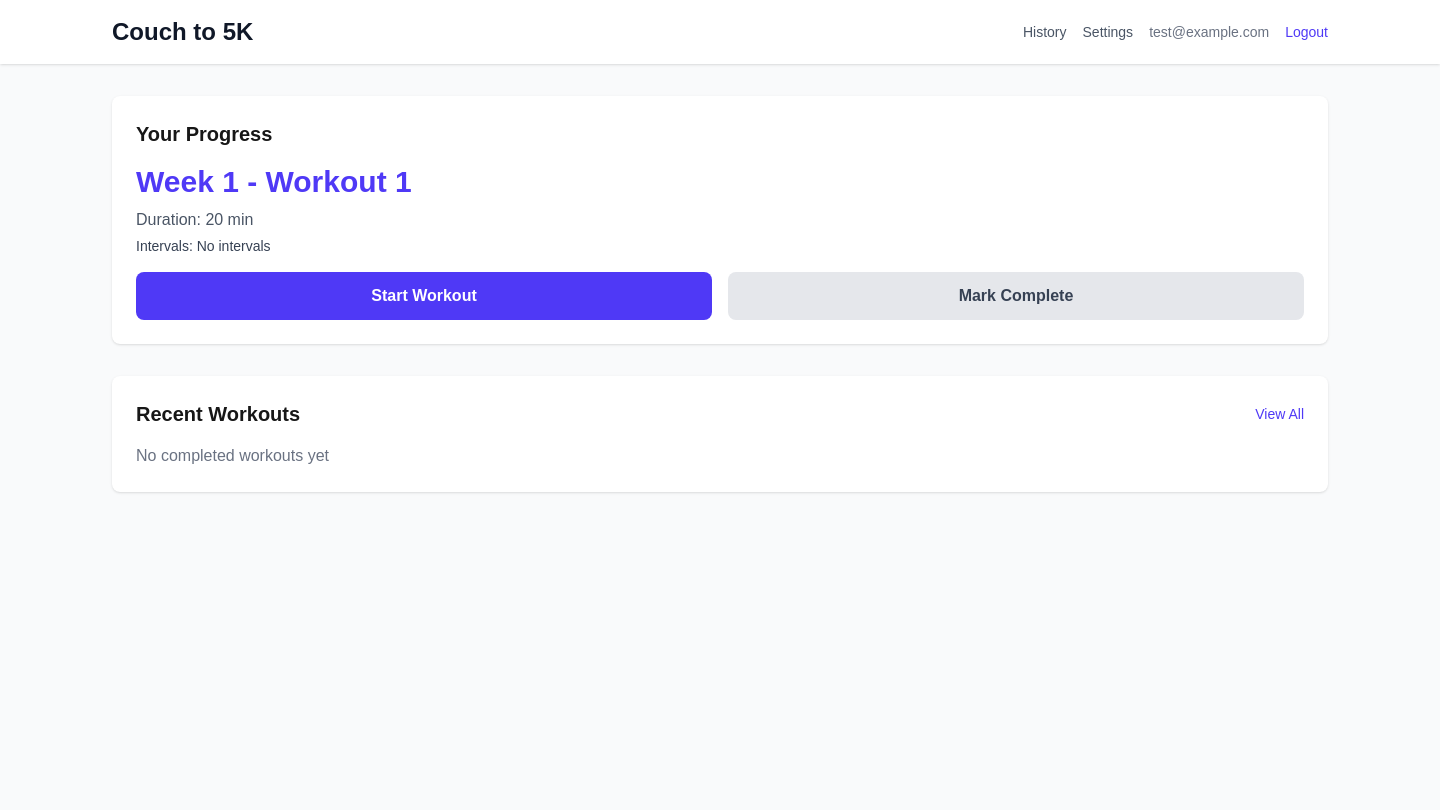
Test case: DashboardPage › should display error in dialog when markComplete fails
Note: Open dialog
Click the button "Mark Complete": (1016, 296) [728, 272, 1304, 320]
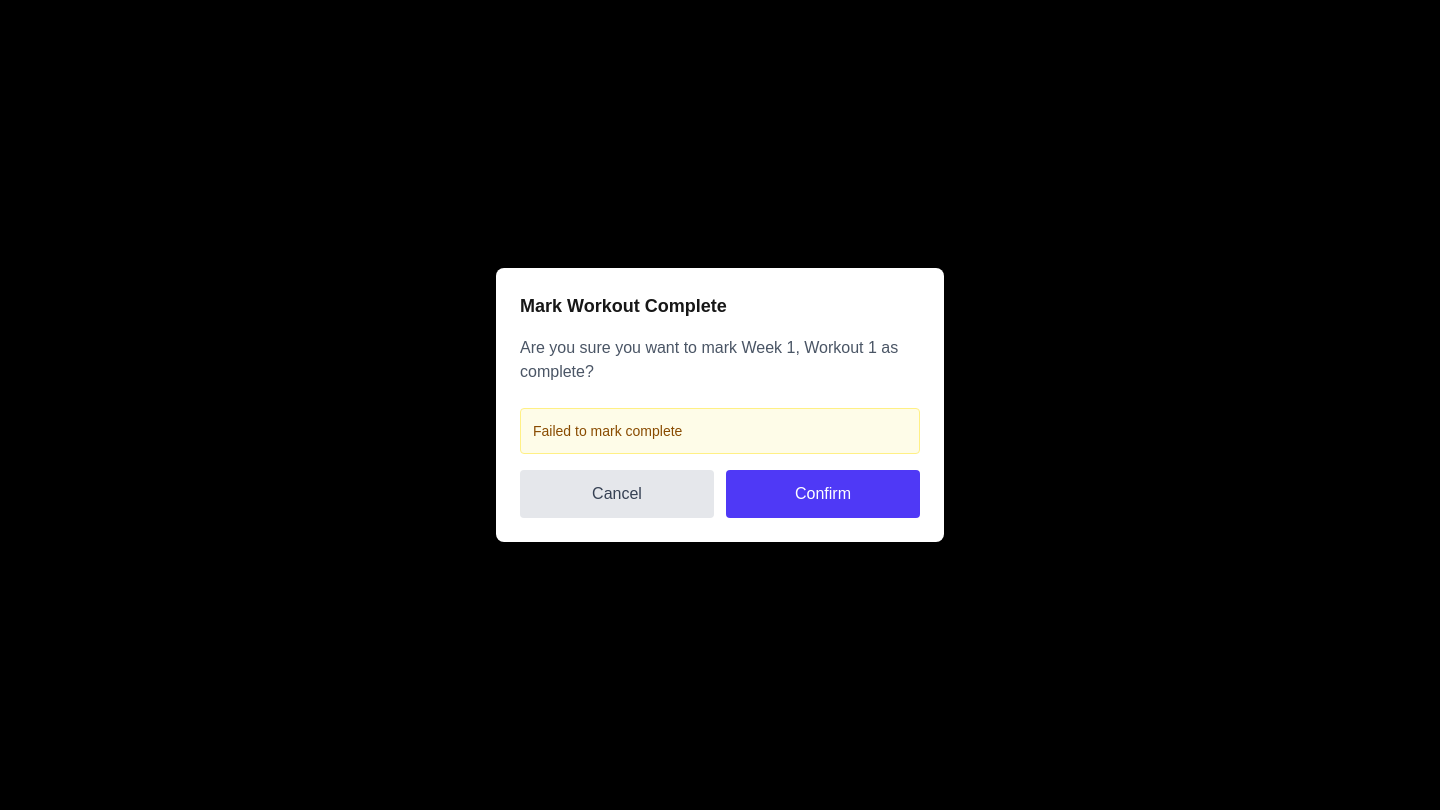
expect the text "Failed to mark complete" is shown: met, box [520, 408, 920, 454]
